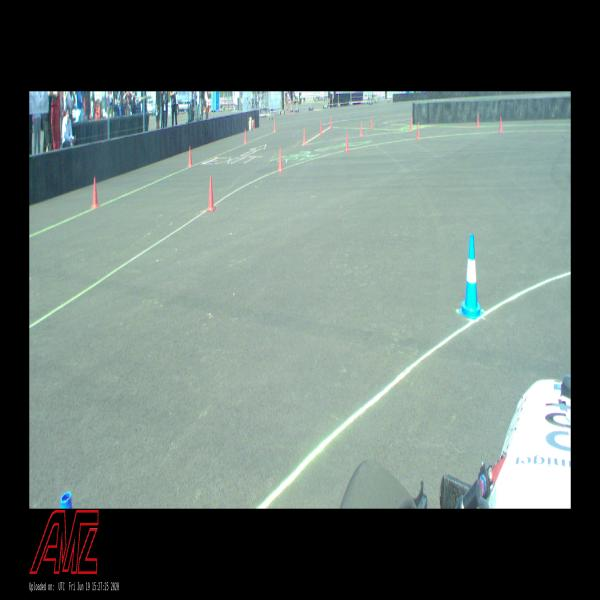blue_cone: (459, 235, 484, 320)
